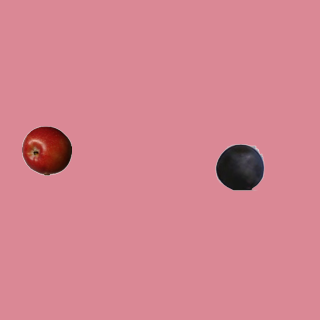Apple Braeburn: (21, 125, 71, 175)
Grape Blue: (214, 141, 264, 191)
